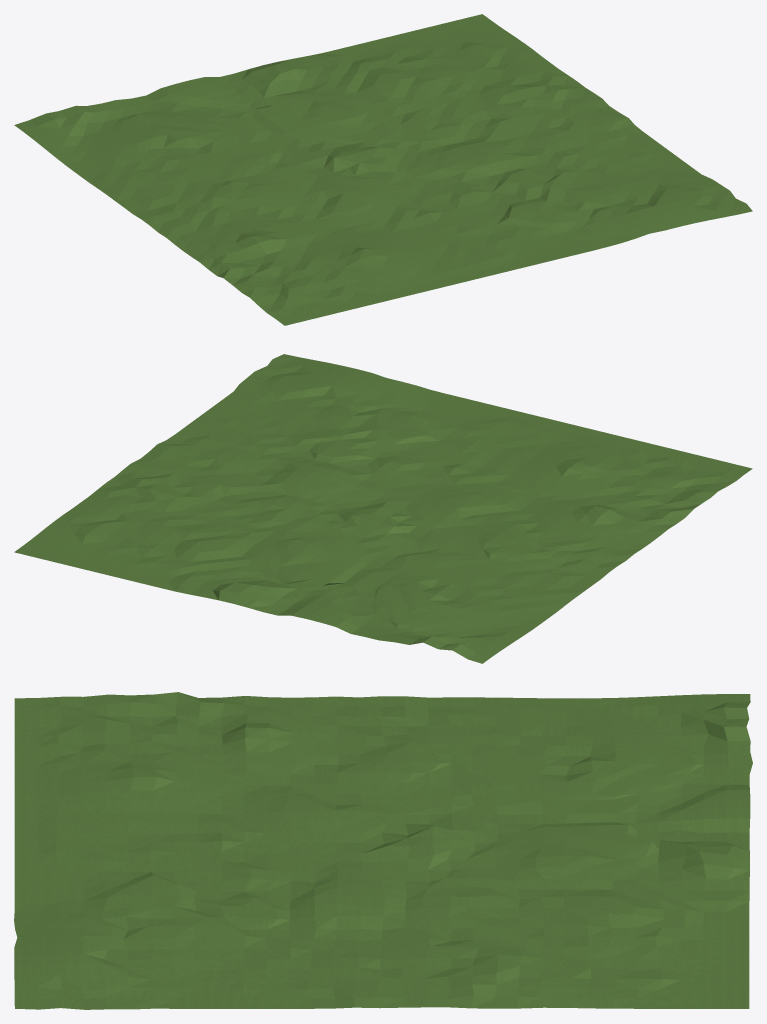
File: plano.obj
The picture shows the model from 3 angles, top to bottom: view 1: azimuth 30°, elevation 25°; view 2: azimuth 150°, elevation 25°; view 3: azimuth 270°, elevation 25°; orthographic projection. The views are drawn at different scales.
Visible parts, largest first — view 1: Plano; view 2: Plano; view 3: Plano.
Boxes of the visible parts, bbox=[...] form: Plano: bbox=[14, 14, 752, 325]; Plano: bbox=[14, 354, 752, 663]; Plano: bbox=[14, 692, 752, 1009].
Bounding box in the file's own units: 505 × 8.66 × 503.
Materials: 1 (1 with a texture image).
